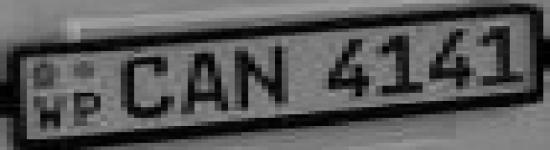1: (478, 19, 529, 90), (376, 32, 429, 98)
4: (315, 37, 375, 102), (429, 24, 478, 91)
A: (178, 50, 234, 118)
C: (113, 52, 181, 122)
N: (230, 42, 298, 112)
P: (72, 91, 108, 128)
W: (30, 93, 70, 133)
